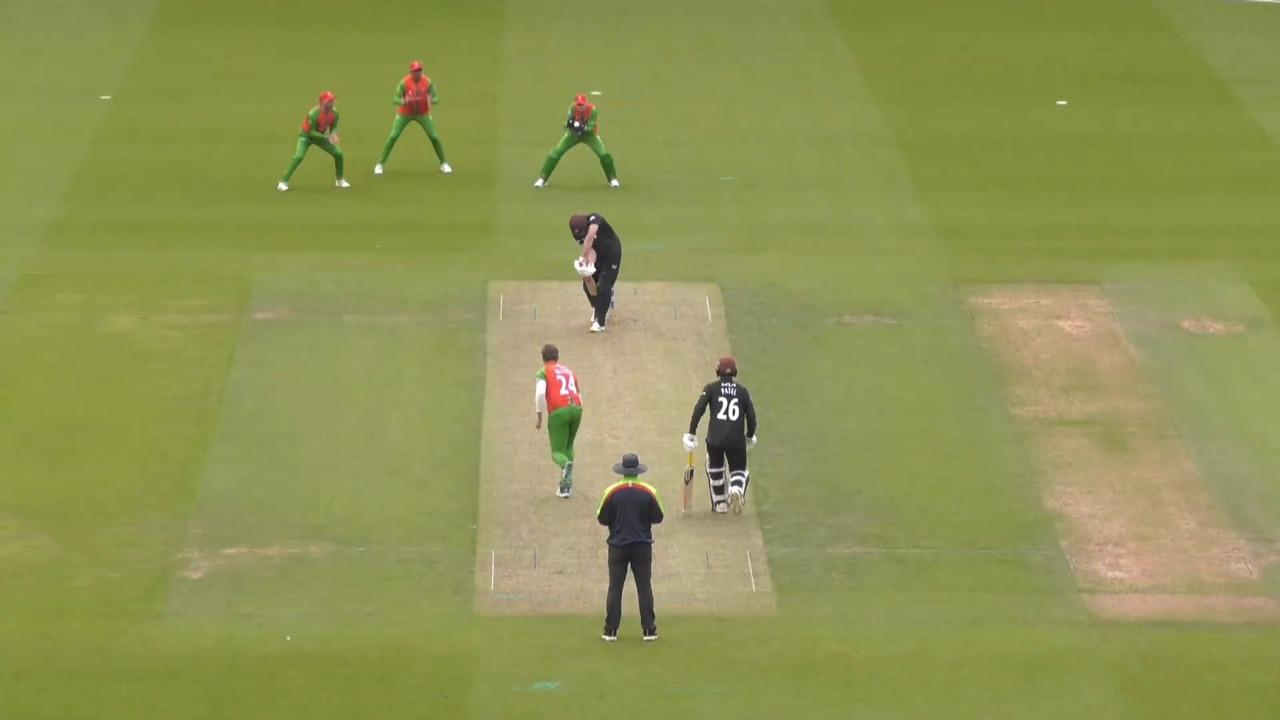sports ball: (574, 122, 579, 127)
